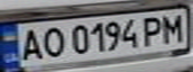0: (66, 21, 90, 55)
1: (87, 20, 109, 53)
4: (121, 16, 142, 50)
9: (103, 18, 124, 52)
A: (15, 25, 45, 62)
M: (157, 11, 190, 43)
O: (36, 25, 66, 60)
P: (139, 14, 169, 47)
